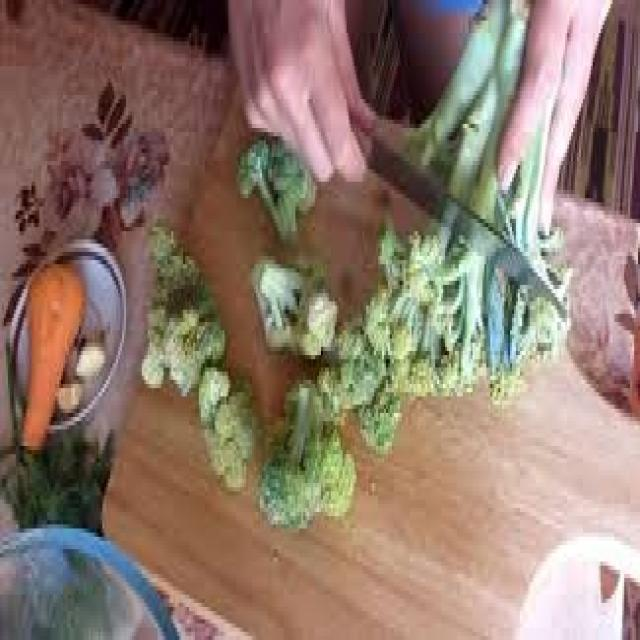Carrot: (17, 253, 88, 465)
Garlic: (56, 372, 88, 427), (74, 336, 108, 386)
broccoli: (345, 148, 603, 435), (146, 212, 250, 468), (264, 369, 364, 529), (242, 224, 332, 394), (234, 78, 318, 222)
